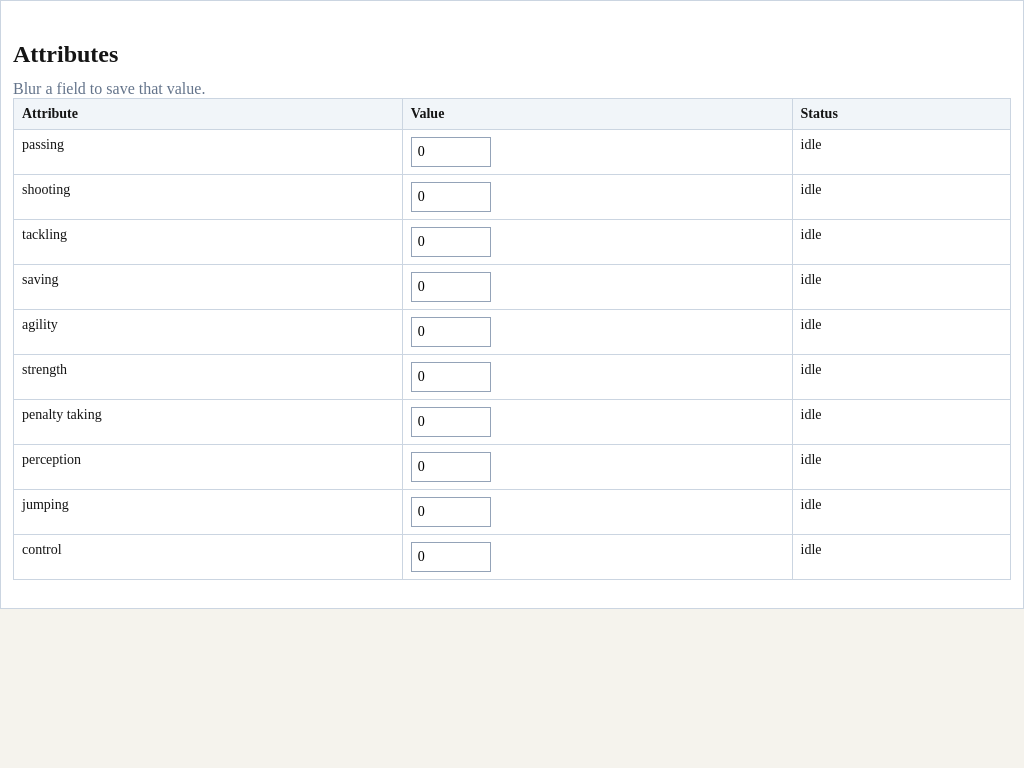
Test case: AttributeEditor › displays a server error on save rejection
Replace the text in the number field named "passing" with "88" at (451, 152), box [411,137,491,167]
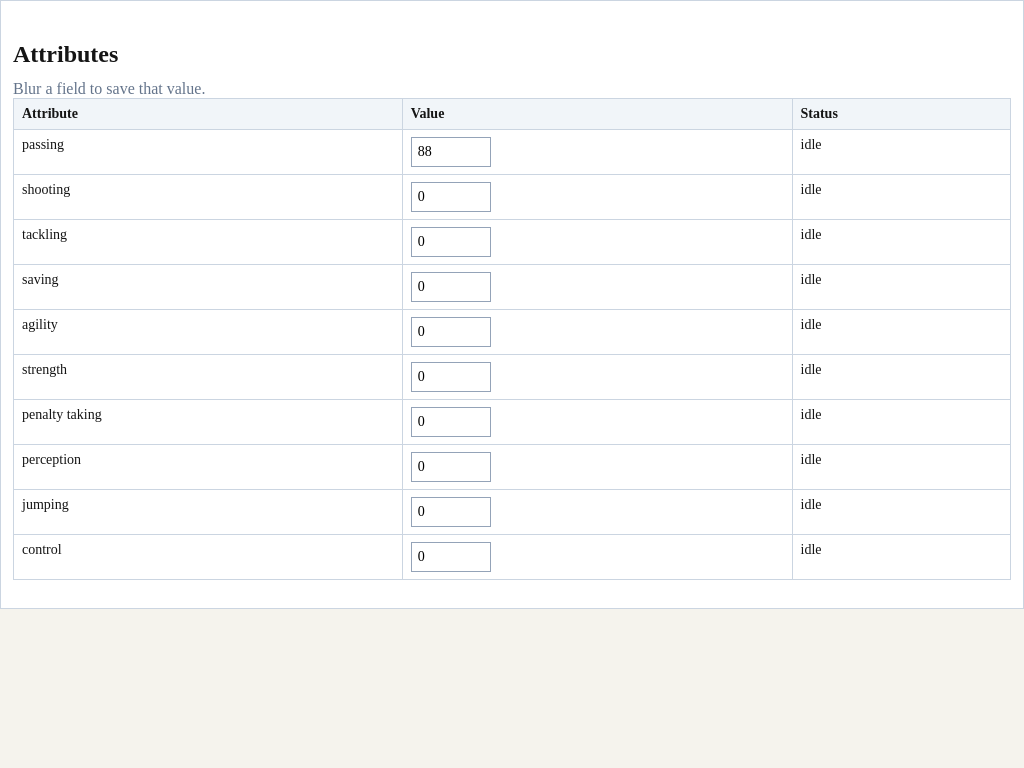
Leave the number field named "passing", box [411,137,491,167]
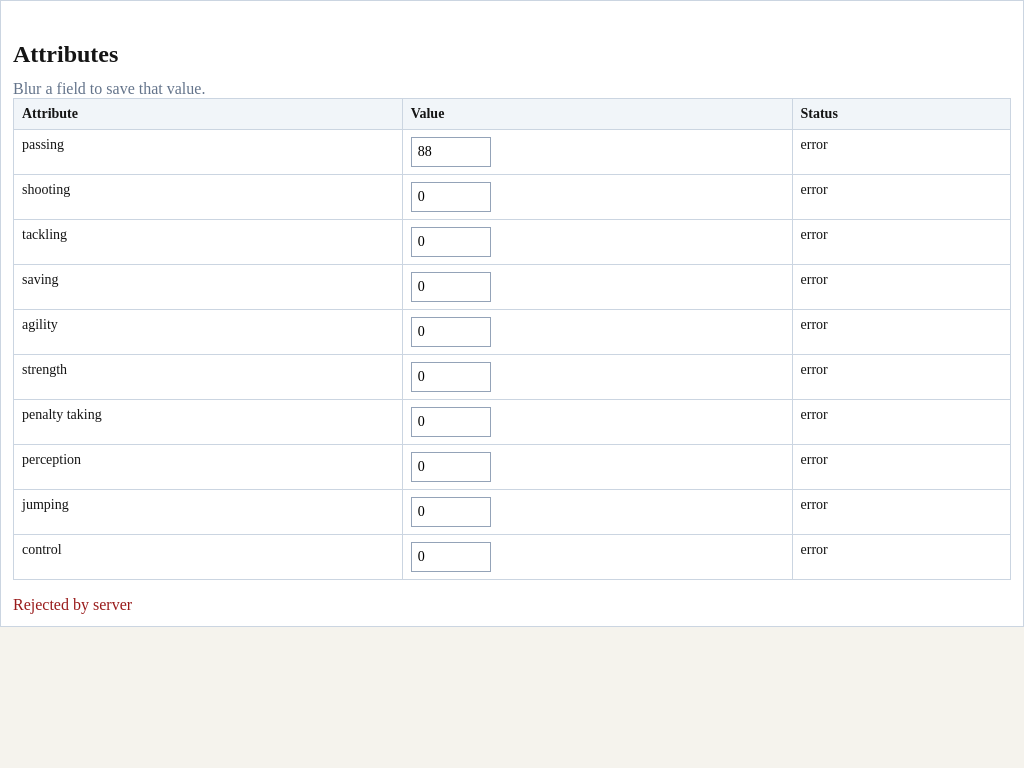
Expected: the text "Rejected by server" is shown, [13,596,132,613]
